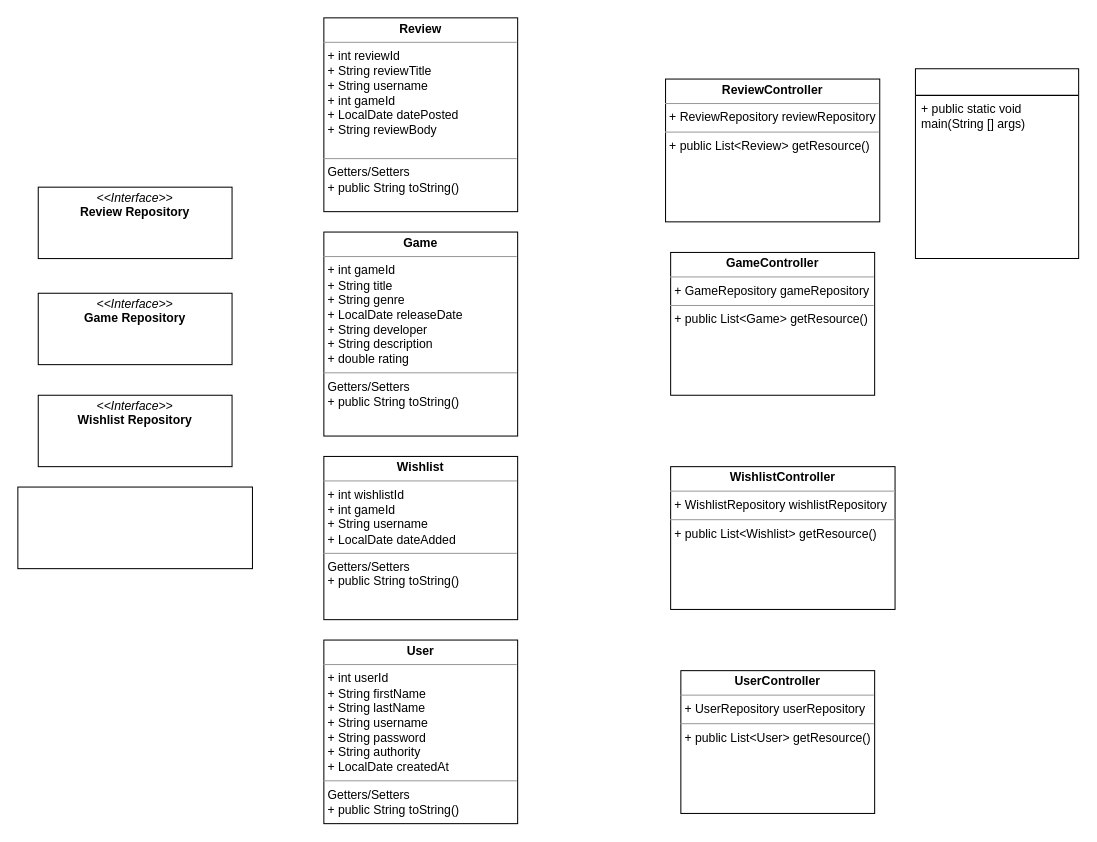
Image size: 1097x842. Some labels were removed from this diagram. Each missing label, with the box of its shape:
<<Interface>> User Repository + User findByUsername(String username): (17, 486, 252, 569)
Game Discovery App: (914, 68, 1079, 259)
